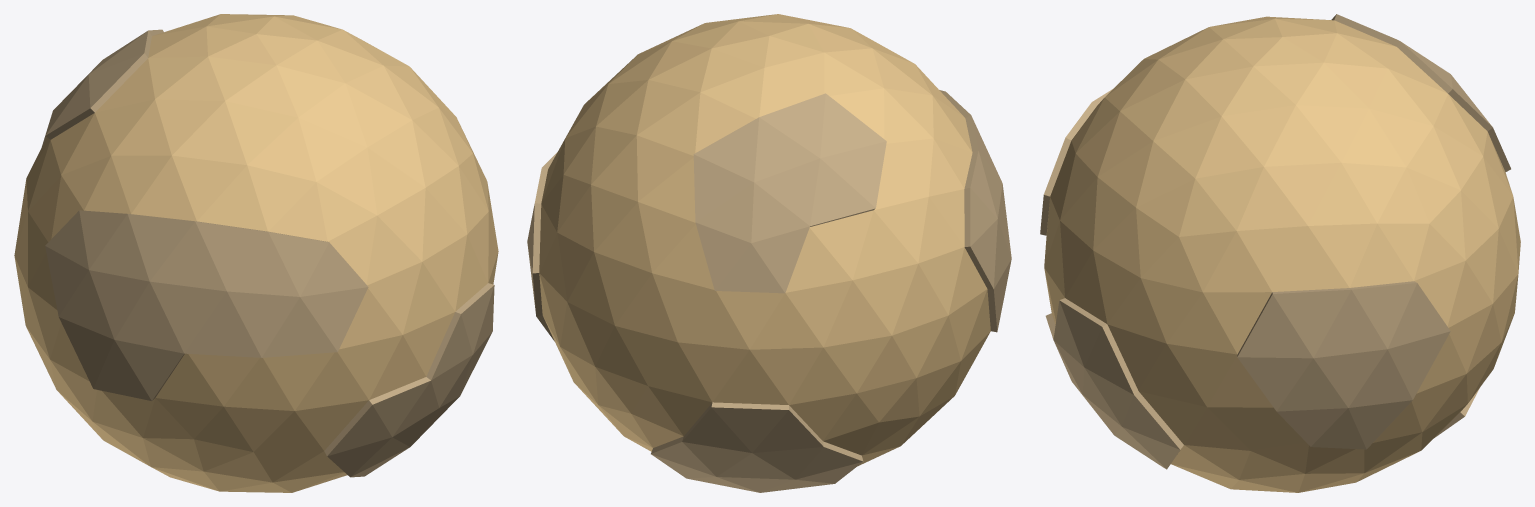
Rendered from Mars.fbx.
3 renders of one model, left to right at view 1: azimuth 30°, elevation 25°; view 2: azimuth 150°, elevation 25°; view 3: azimuth 270°, elevation 25°, orthographic. The views are drawn at different scales.
Visible parts, largest first — view 1: Mars; view 2: Mars; view 3: Mars.
Part boxes in pixels (left/top/right/bottom): Mars: left=14, top=14, right=498, bottom=492; Mars: left=527, top=14, right=1011, bottom=492; Mars: left=1040, top=14, right=1520, bottom=492.
Bounding box in the file's own units: 124 × 122 × 122.
